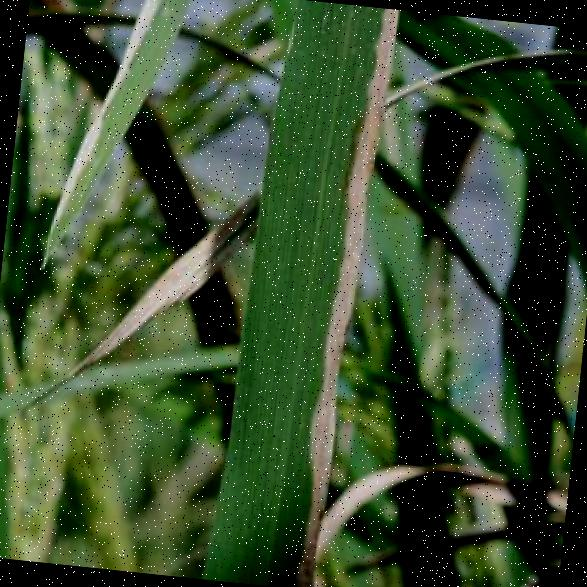Bacteria_Leaf_Blight: (212, 0, 386, 587), (35, 58, 131, 270)
